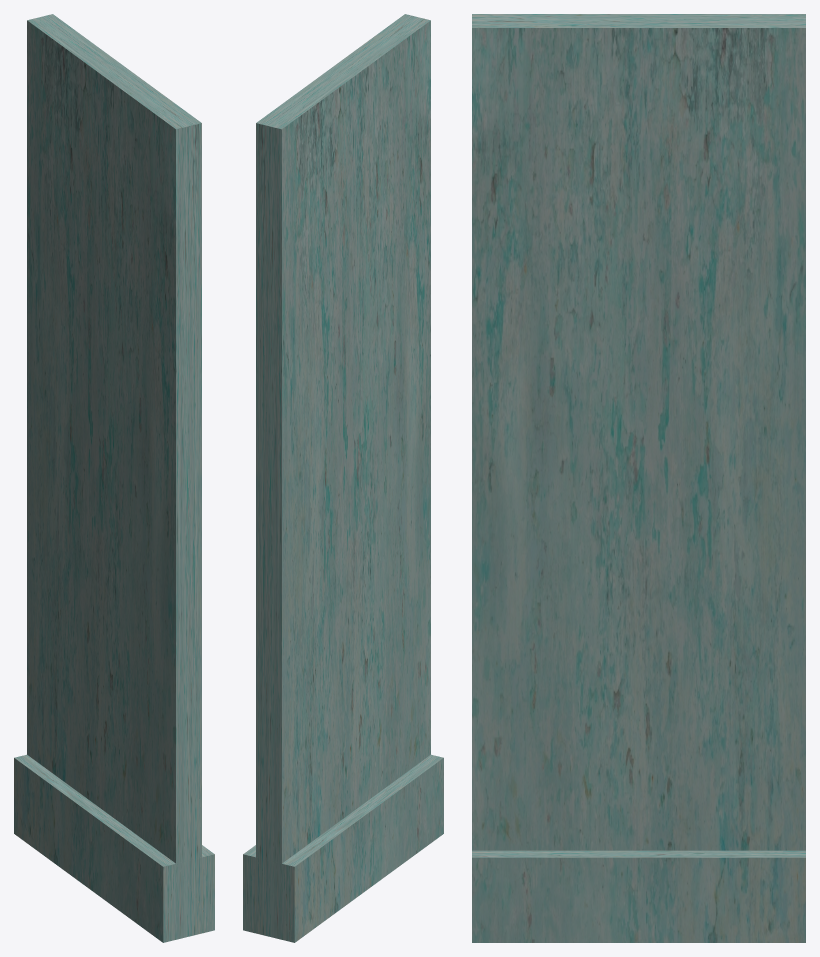
File: Wall_1m.glb
The picture shows the model from 3 angles, left to right: view 1: azimuth 30°, elevation 25°; view 2: azimuth 150°, elevation 25°; view 3: azimuth 270°, elevation 25°; orthographic projection. The views are drawn at different scales.
Visible parts, largest first — view 1: Wall 1m; view 2: Wall 1m; view 3: Wall 1m.
Boxes of the visible parts, left/top/right/bottom form: Wall 1m: left=14, top=14, right=214, bottom=942; Wall 1m: left=243, top=14, right=443, bottom=942; Wall 1m: left=472, top=14, right=805, bottom=942.
Size of the model in its own units: 0.2 by 3 by 1.
Materials: 1 (1 with a texture image).
